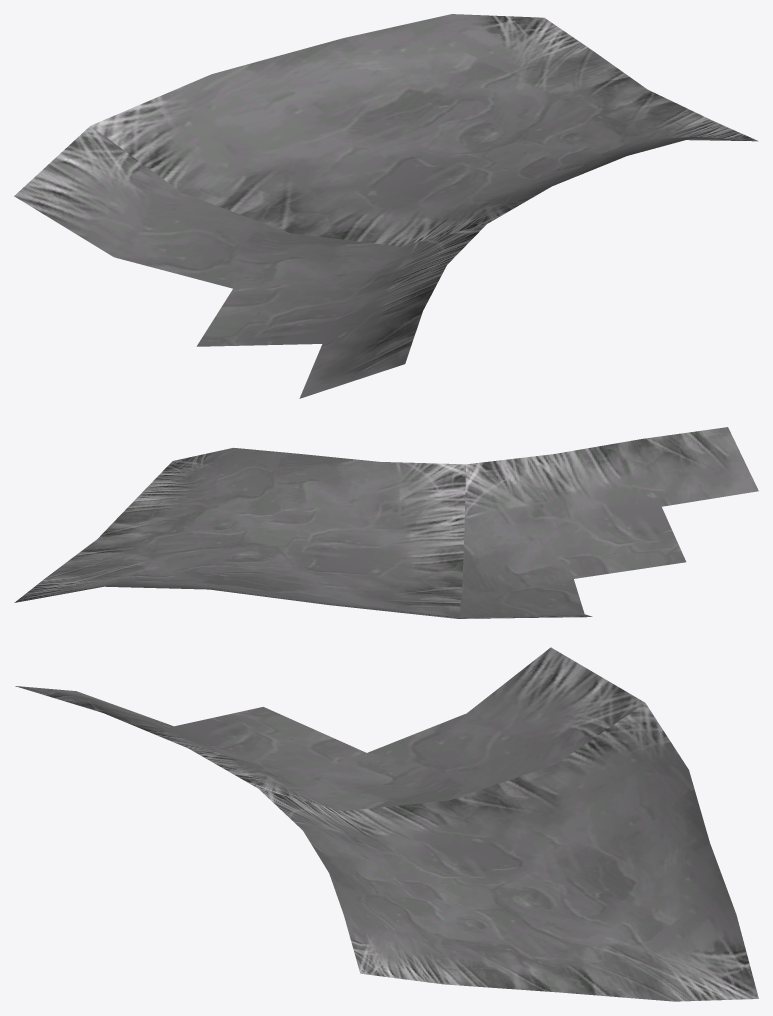
File: SWORDLIGHT20_PS-AREA01_15.fbx
3 renders of one model, top to bottom at view 1: azimuth 30°, elevation 25°; view 2: azimuth 150°, elevation 25°; view 3: azimuth 270°, elevation 25°, orthographic. The views are drawn at different scales.
Parts seen in each view (by area): view 1: SWORDLIGHT20_PS-AREA01_15; view 2: SWORDLIGHT20_PS-AREA01_15; view 3: SWORDLIGHT20_PS-AREA01_15.
Part boxes in pixels (x1,y1,x2,y2): SWORDLIGHT20_PS-AREA01_15: (14, 14, 758, 398); SWORDLIGHT20_PS-AREA01_15: (14, 427, 758, 618); SWORDLIGHT20_PS-AREA01_15: (15, 647, 758, 1001).
Bounding box in the file's own units: 77953 × 8594 × 82117.
Materials: 2 (2 with a texture image).
